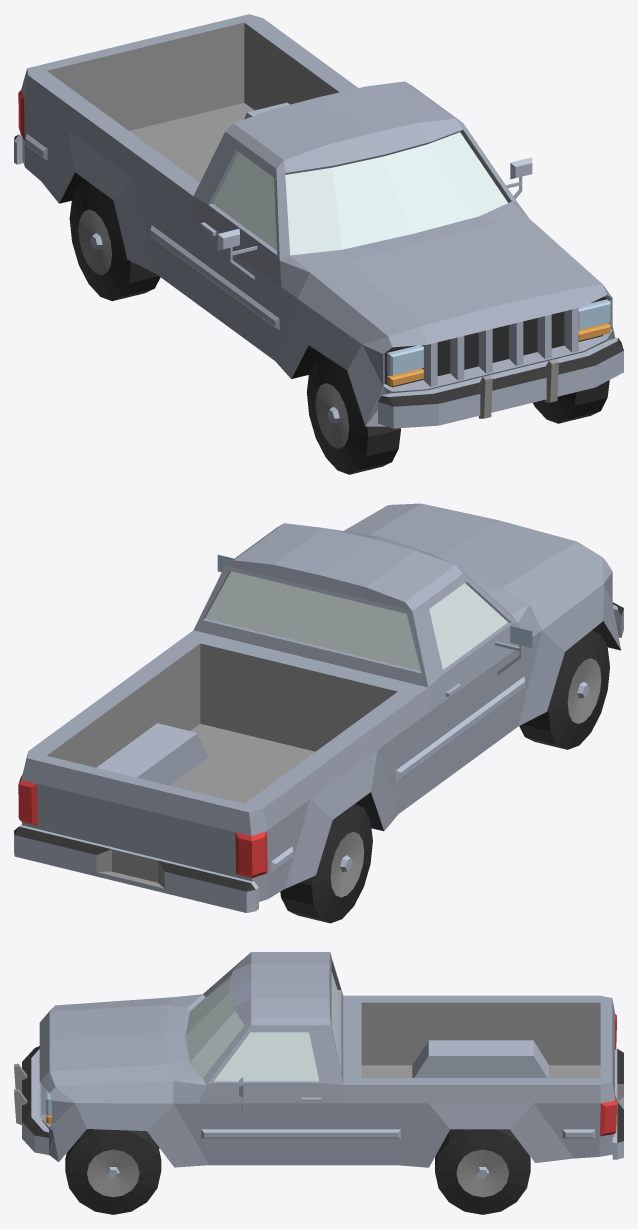
3 views of the same model, one above another, from view 1: azimuth 30°, elevation 25°; view 2: azimuth 150°, elevation 25°; view 3: azimuth 270°, elevation 25° (orthographic). The views are drawn at different scales.
Visible parts, largest first — view 1: f100_body, f100_wheel_FR, f100_wheel_RR, f100_wheel_FL; view 2: f100_body, f100_wheel_RR, f100_wheel_FR; view 3: f100_body, f100_wheel_FL, f100_wheel_RL.
Part boxes in pixels (bbox=[...]): f100_body: bbox=[14, 14, 623, 428]; f100_wheel_FR: bbox=[306, 355, 400, 474]; f100_wheel_RR: bbox=[69, 181, 160, 301]; f100_wheel_FL: bbox=[533, 380, 609, 423]; f100_body: bbox=[14, 503, 623, 912]; f100_wheel_RR: bbox=[280, 804, 372, 923]; f100_wheel_FR: bbox=[519, 630, 609, 749]; f100_body: bbox=[14, 952, 623, 1167]; f100_wheel_FL: bbox=[65, 1129, 161, 1214]; f100_wheel_RL: bbox=[435, 1129, 530, 1214].
Size of the model in its own units: 3.64 by 1.24 by 1.69.
